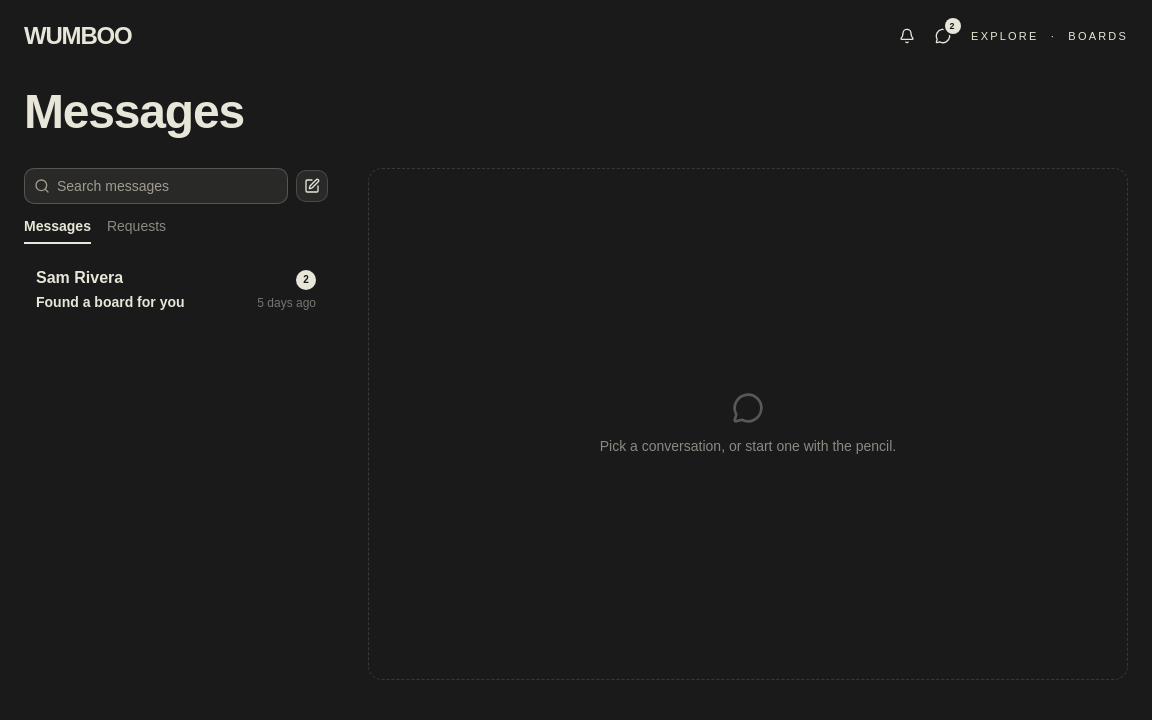
Test: MessagesPage › starts a conversation from the people you follow, and opens it
Click the button named "New message": {"x": 312, "y": 186} [296,170,328,202]
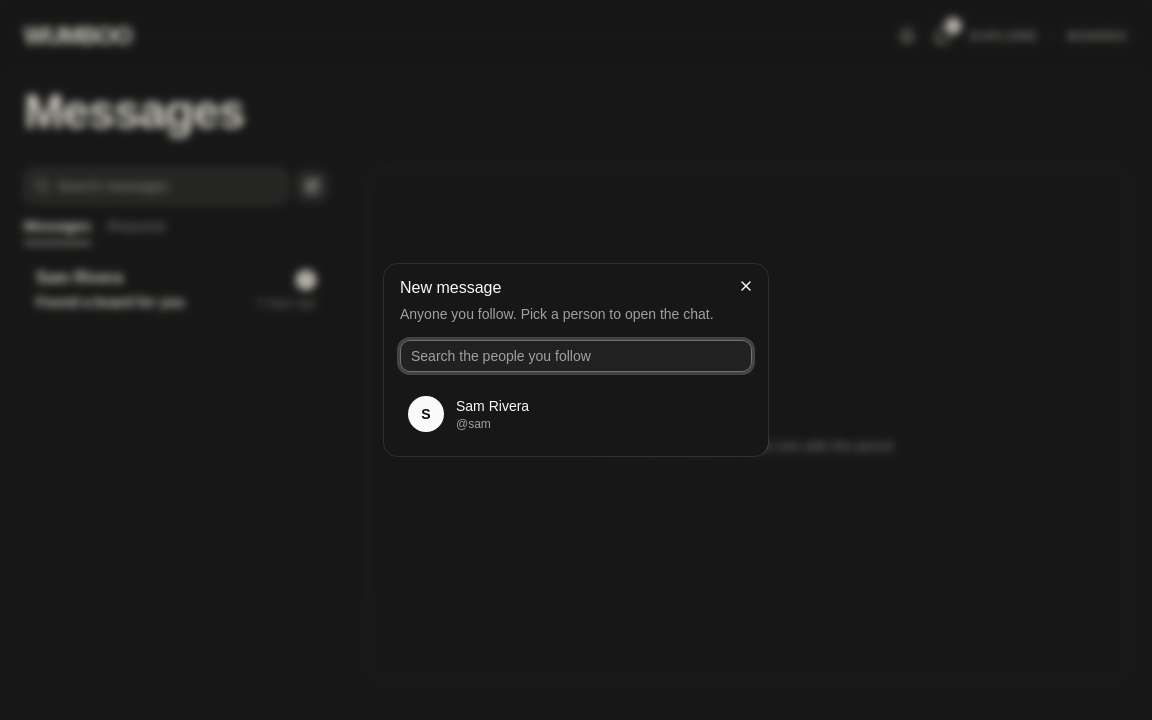
Click the button "S Sam Rivera @sam": {"x": 426, "y": 414} [400,388,752,440]
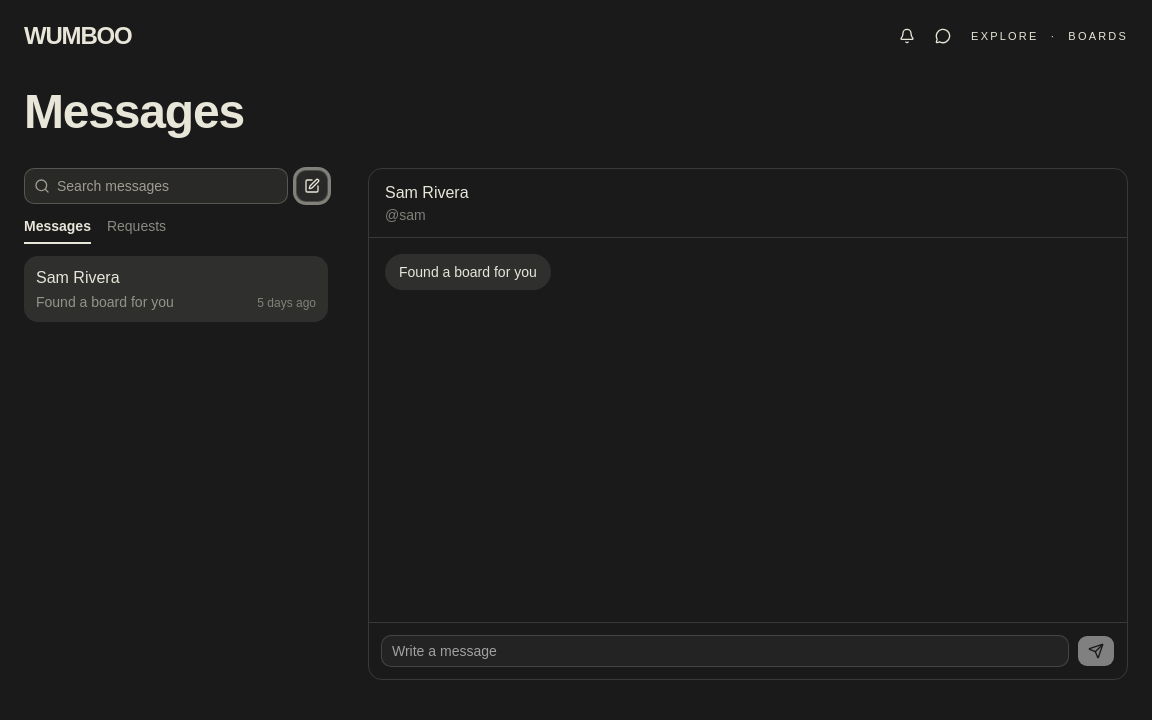
Expected: the field named "Message Sam Rivera" is shown, [381,635,1069,667]
